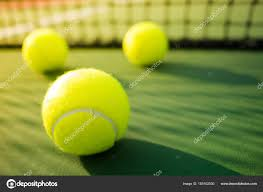tennis_ball: (40, 68, 131, 156), (21, 27, 70, 73), (121, 20, 169, 66)
